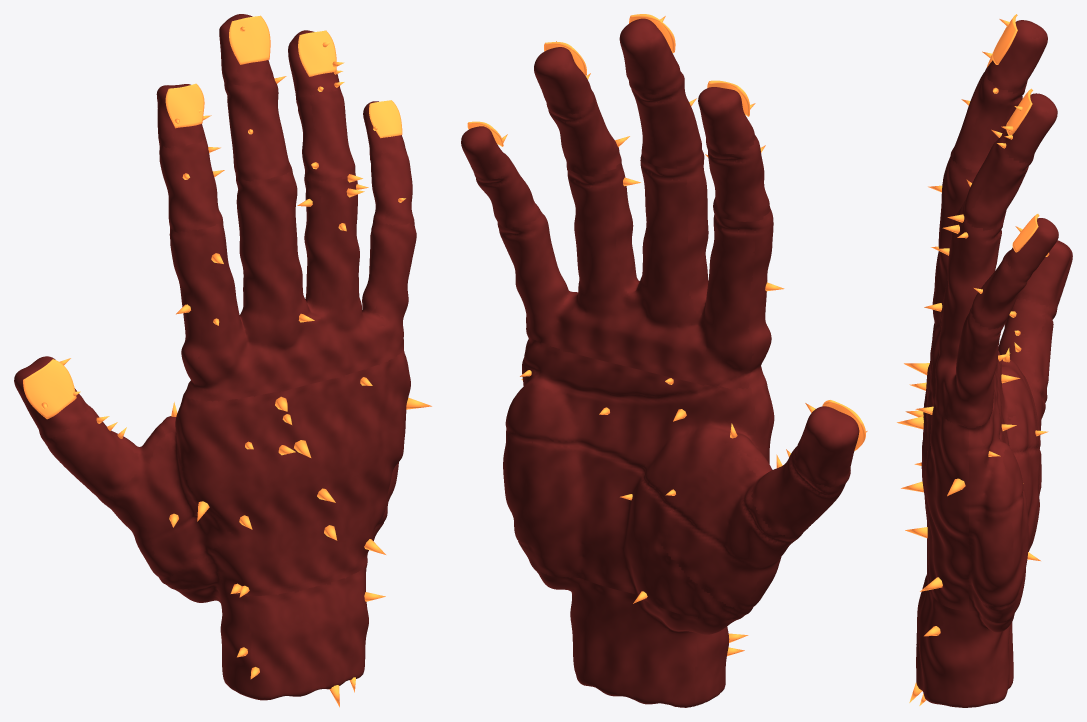
Rendered from family-09.glb.
3 views of the same model, side by side, from view 1: azimuth 30°, elevation 25°; view 2: azimuth 150°, elevation 25°; view 3: azimuth 270°, elevation 25° (orthographic). The views are drawn at different scales.
Visible parts, largest first — view 1: knuckles__knuckles_sculpt, back_of_hand__back_of_hand_sculpt, middle_sections__middle_sections_sculpt, wrist__wrist_sculpt, fingertips__fingertips_sculpt, palm__palm_sculpt, nails__thumb_claw, back_of_hand, nails__middle_claw, nails__ring_claw, nails__index_claw, nails__pinky_claw (+1 smaller); view 2: knuckles__knuckles_sculpt, palm__palm_sculpt, middle_sections__middle_sections_sculpt, wrist__wrist_sculpt, fingertips__fingertips_sculpt; view 3: palm__palm_sculpt, knuckles__knuckles_sculpt, middle_sections__middle_sections_sculpt, wrist__wrist_sculpt, fingertips__fingertips_sculpt, back_of_hand__back_of_hand_sculpt, back_of_hand, nails__middle_claw, knuckles, nails__ring_claw, palm, nails__pinky_claw.
Boxes of the visible parts, x1,y1,x2,y2 form: knuckles__knuckles_sculpt: [98, 169, 416, 578]; back_of_hand__back_of_hand_sculpt: [179, 347, 410, 596]; middle_sections__middle_sections_sculpt: [43, 77, 414, 499]; wrist__wrist_sculpt: [170, 564, 368, 700]; fingertips__fingertips_sculpt: [14, 14, 406, 439]; palm__palm_sculpt: [159, 391, 398, 589]; nails__thumb_claw: [23, 359, 76, 419]; back_of_hand: [197, 377, 431, 597]; nails__middle_claw: [229, 15, 270, 64]; nails__ring_claw: [298, 30, 336, 76]; nails__index_claw: [165, 83, 204, 128]; nails__pinky_claw: [369, 100, 402, 138]; knuckles__knuckles_sculpt: [497, 150, 802, 610]; palm__palm_sculpt: [503, 335, 769, 620]; middle_sections__middle_sections_sculpt: [474, 72, 847, 537]; wrist__wrist_sculpt: [533, 568, 741, 707]; fingertips__fingertips_sculpt: [461, 18, 859, 487]; palm__palm_sculpt: [967, 350, 1039, 622]; knuckles__knuckles_sculpt: [930, 154, 1047, 493]; middle_sections__middle_sections_sculpt: [951, 70, 1056, 387]; wrist__wrist_sculpt: [916, 574, 1014, 707]; fingertips__fingertips_sculpt: [985, 20, 1072, 311]; back_of_hand__back_of_hand_sculpt: [921, 363, 968, 610]; back_of_hand: [897, 363, 965, 591]; nails__middle_claw: [992, 14, 1017, 64]; knuckles: [924, 185, 968, 311]; nails__ring_claw: [1006, 88, 1032, 135]; palm: [988, 348, 1048, 560]; nails__pinky_claw: [1012, 214, 1039, 252].
Bounding box in the file's own units: 0.1311 × 0.2225 × 0.0536.
2 materials, 1 textured.
